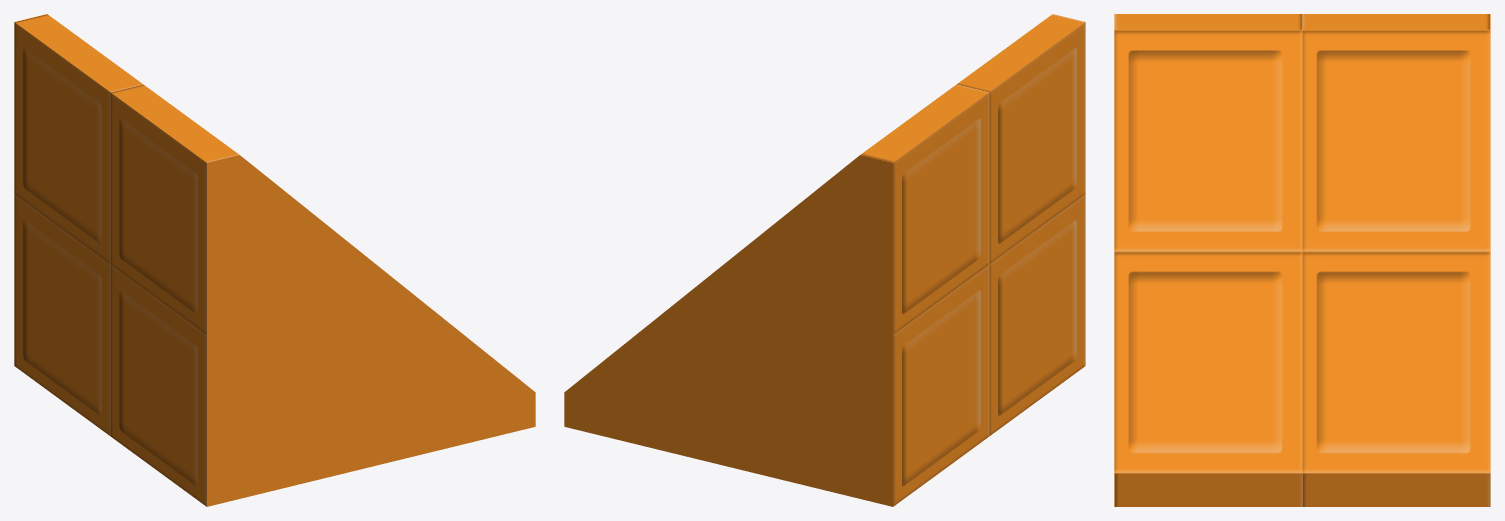
The model's file is Ramp_Mesh.fbx.
3 views of the same model, side by side, from view 1: azimuth 30°, elevation 25°; view 2: azimuth 150°, elevation 25°; view 3: azimuth 270°, elevation 25° (orthographic). The views are drawn at different scales.
Parts seen in each view (by area): view 1: Ramp_Mesh; view 2: Ramp_Mesh; view 3: Ramp_Mesh.
Part boxes in pixels (x1,y1,x2,y2): Ramp_Mesh: (14, 14, 535, 506); Ramp_Mesh: (564, 14, 1085, 506); Ramp_Mesh: (1114, 14, 1490, 506).
Bounding box in the file's own units: 100 × 100 × 101.
